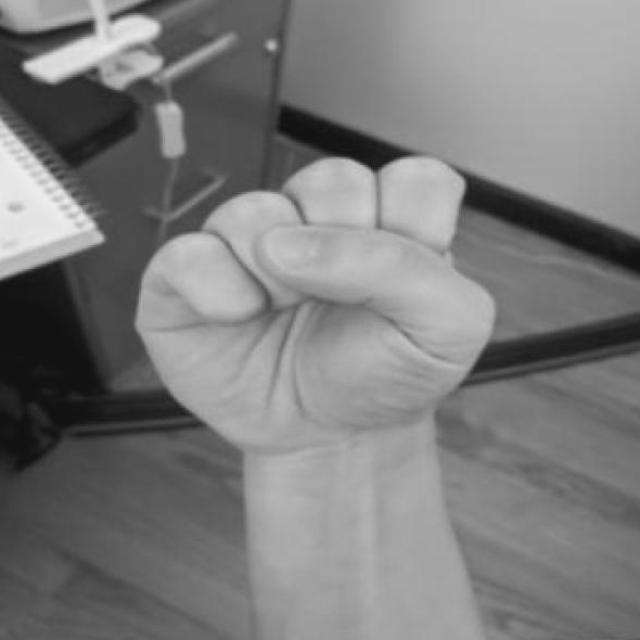S: (135, 144, 507, 508)
